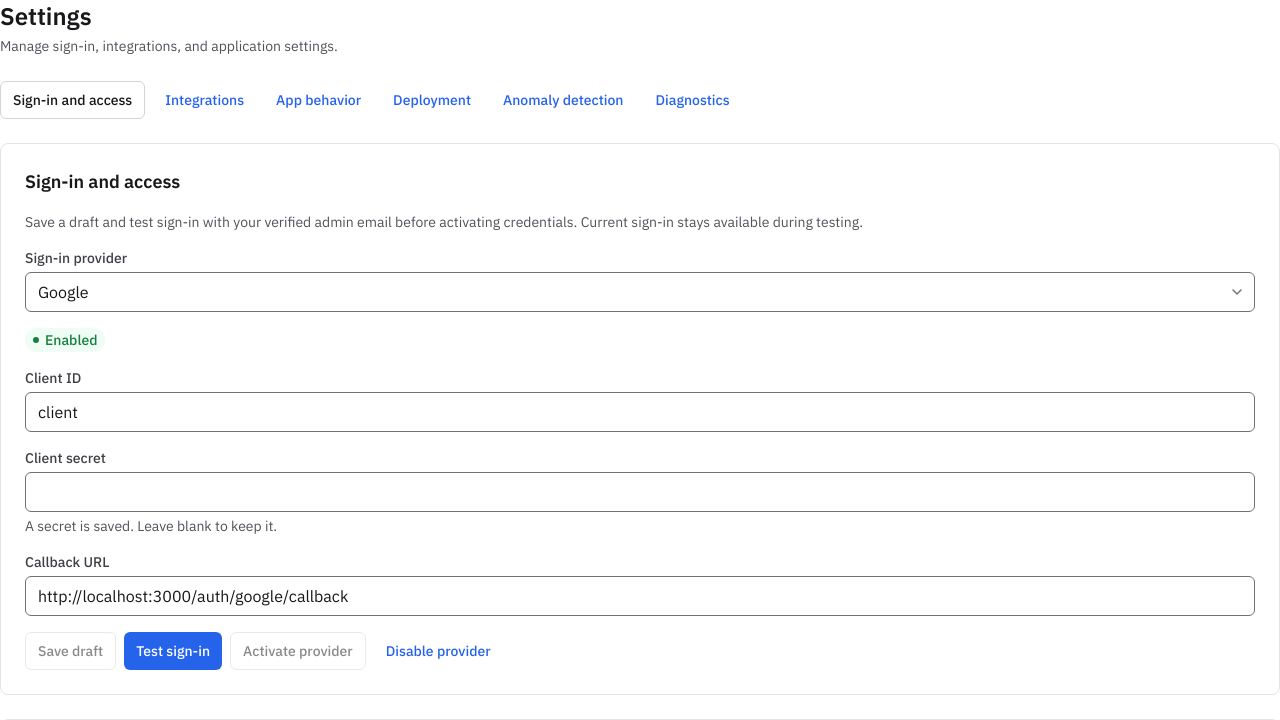
Settings and installation › shows a conflict without losing the current form
The width and height of the screenshot is (1280, 720).
Replace the text in the field labelled "Client ID" with "replacement" at coordinates (640, 412), box [25, 392, 1255, 432]
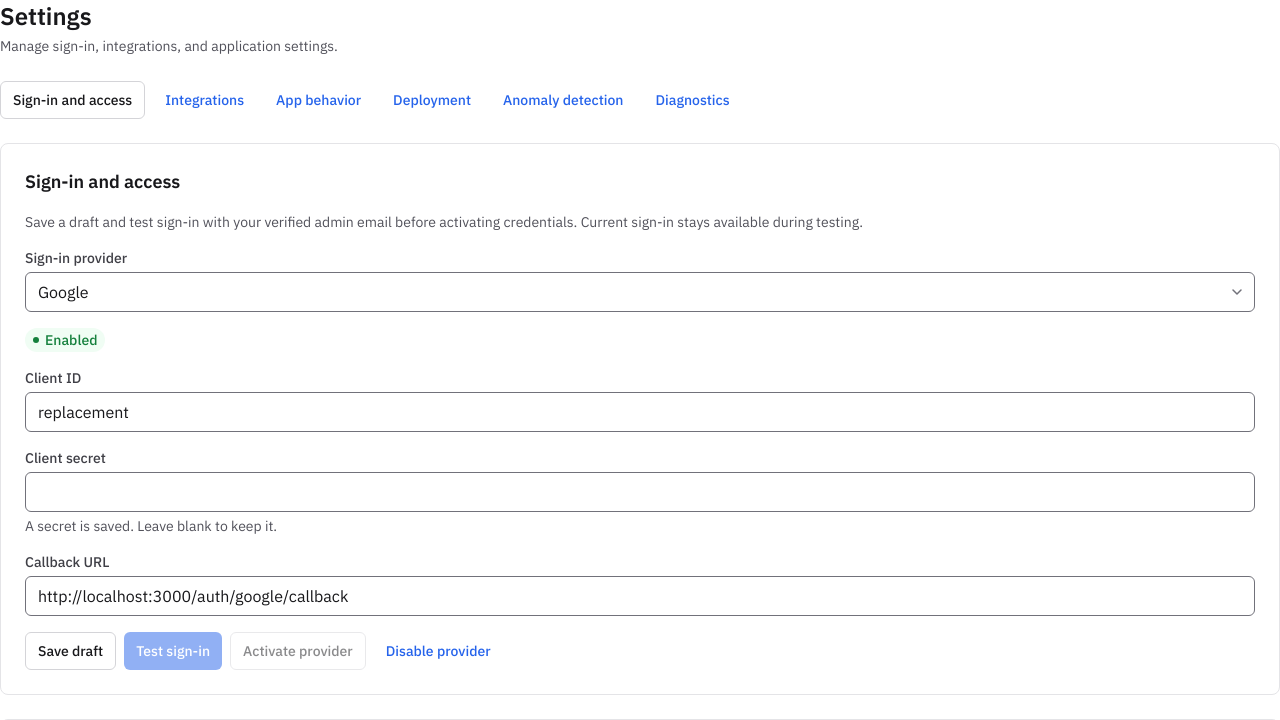
Click the button "Save draft" at coordinates (71, 651), box [25, 632, 116, 670]
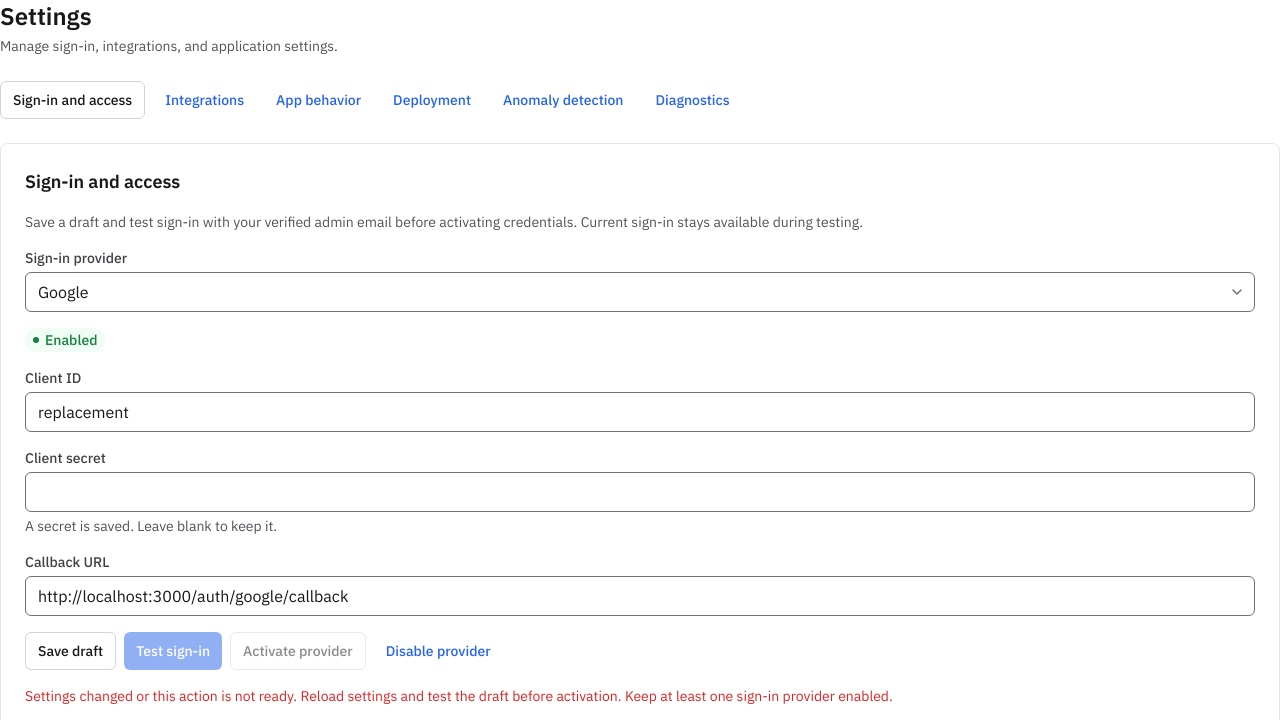
Expected: the text "Settings changed or this action is not ready. Reload settings and test the draft before activation. Keep at least one si" is shown, [25, 687, 893, 705]
